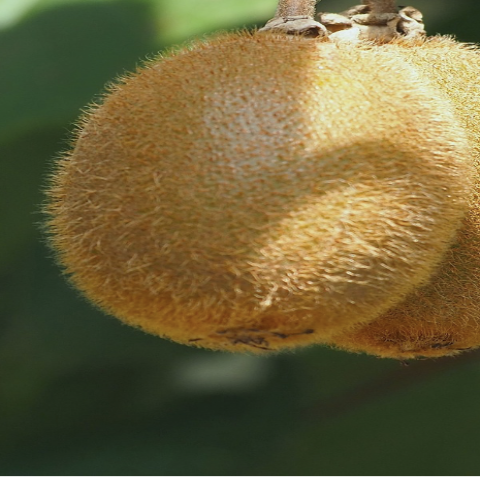kiwi: (41, 7, 471, 379)
